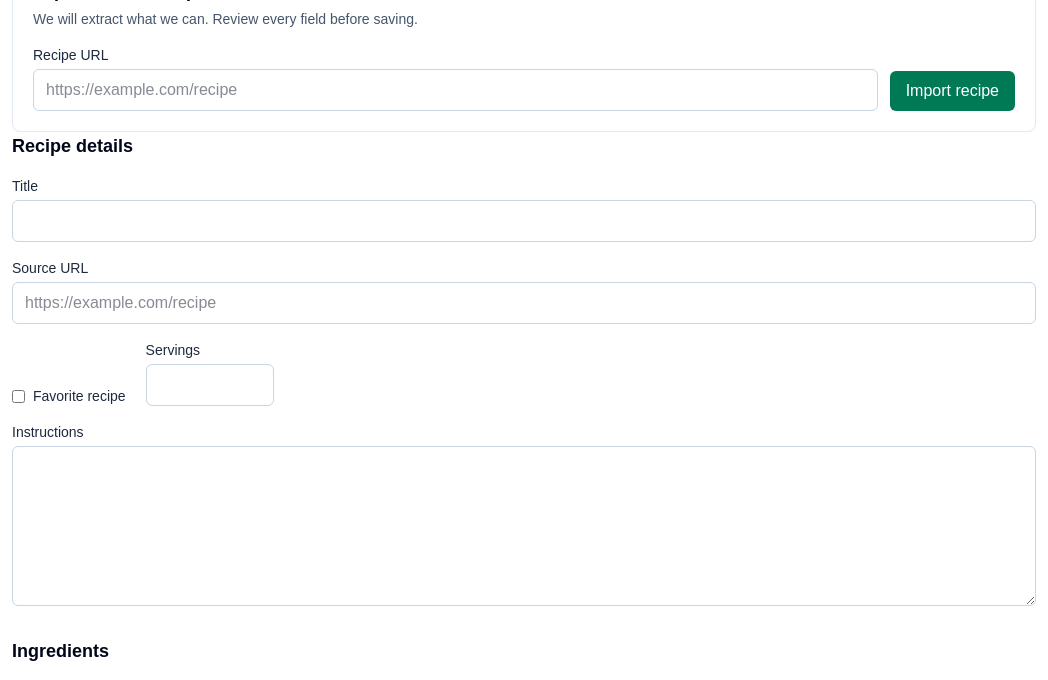
Test: recipe URL review flow › prefills the editable recipe form after importing a parsed recipe
In the field labelled "Recipe URL": [455, 90] box [33,69,878,111], type "https://recipes.example/weeknight-pasta"
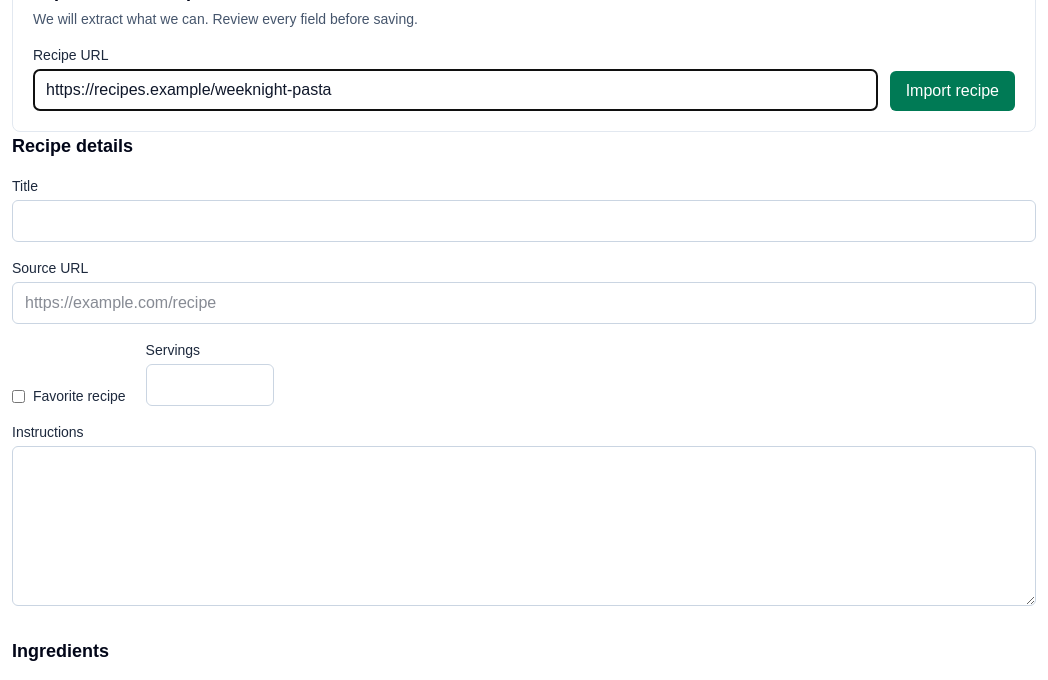
Click the button "Import recipe": [952, 91] box [890,71,1015,111]
(page scrolled)
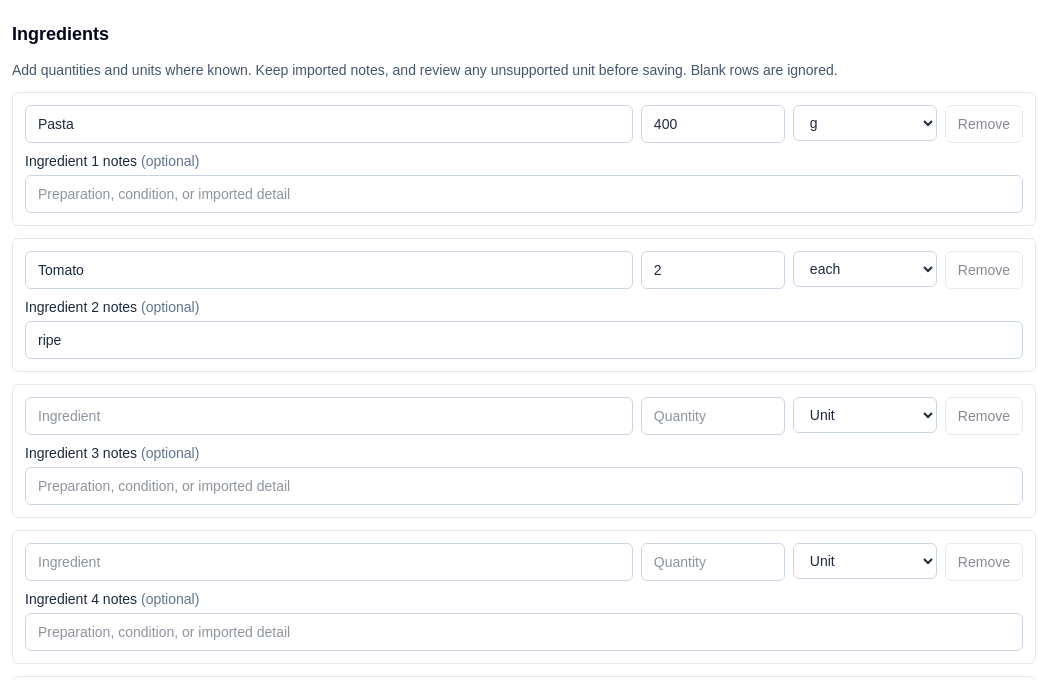
Expected: the 1st field named "Ingredient 1 name" holds "Pasta", [25,105,633,143]
Expected: the 1st number field named "Ingredient 1 quantity" holds "400", [641,105,785,143]
Expected: the 1st dropdown named "Ingredient 1 unit" shows "g", [793,105,937,141]
